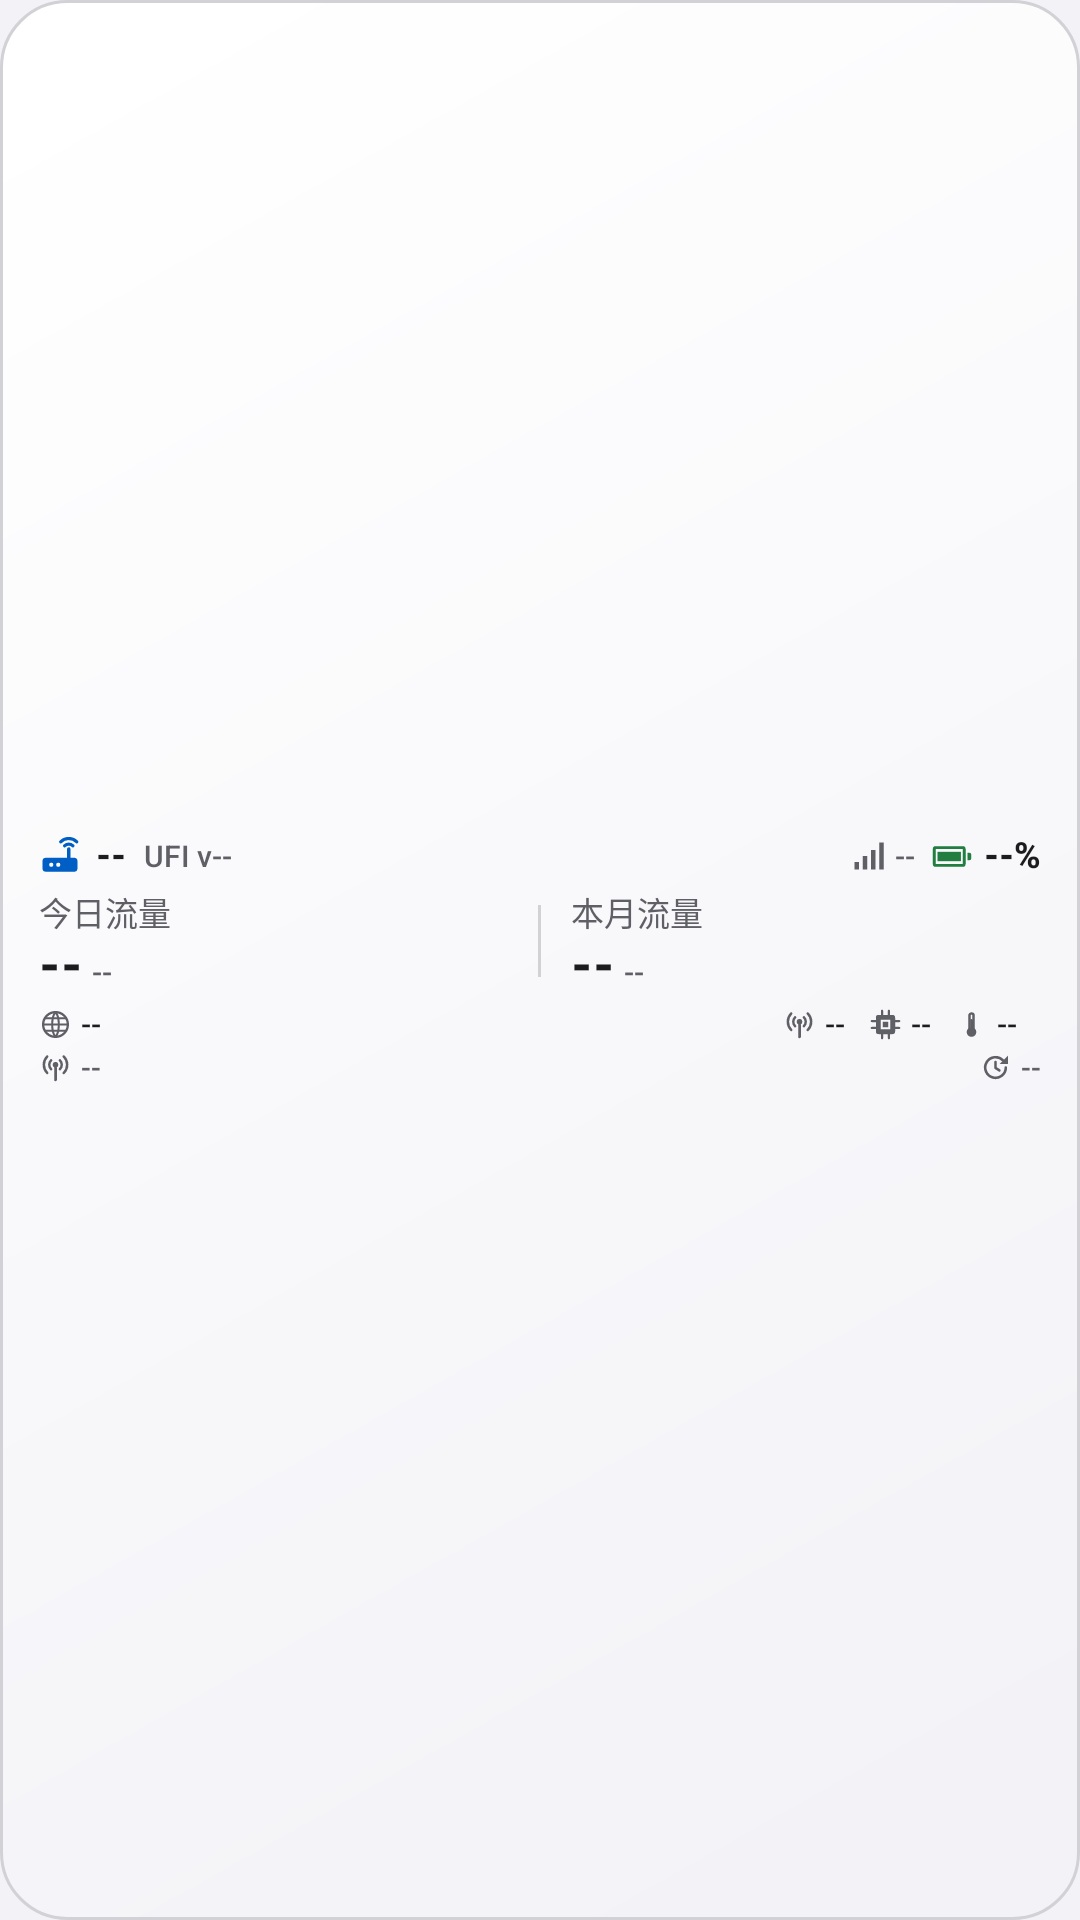

Point at icon controls on the screen. Image size 1080×1920, points as (x,y).
antenna: (799,1025), (55,1068)
bat: (952,856)
clock: (996,1068)
cpu: (885,1024)
globe: (55,1024)
router: (60,854)
signal: (869,856)
